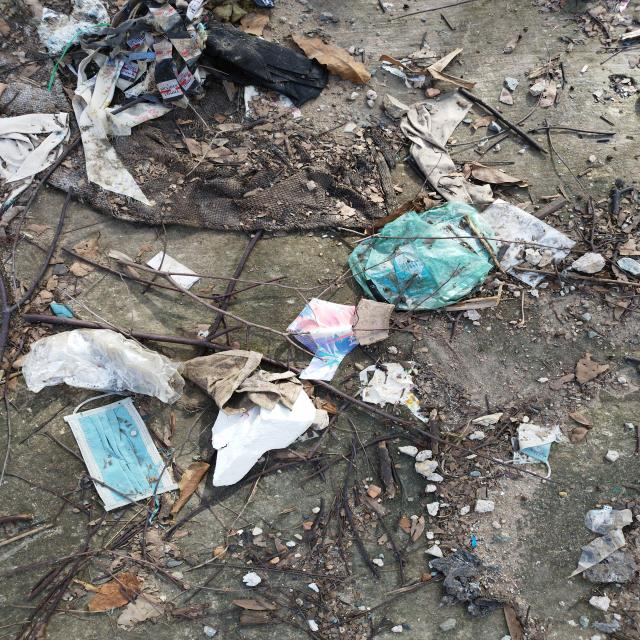bag: (352, 202, 498, 310), (22, 329, 185, 407), (477, 198, 575, 287)
clothes: (186, 349, 302, 416)
mask: (66, 390, 178, 511), (512, 419, 557, 480)
